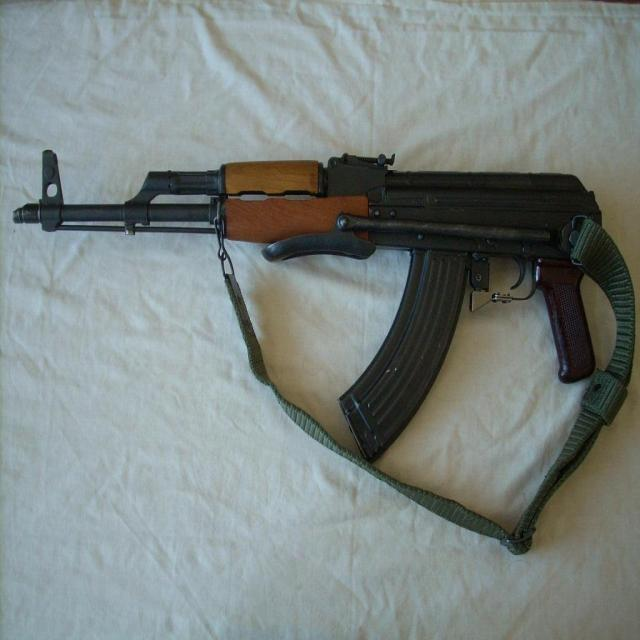gun: (5, 147, 603, 471)
